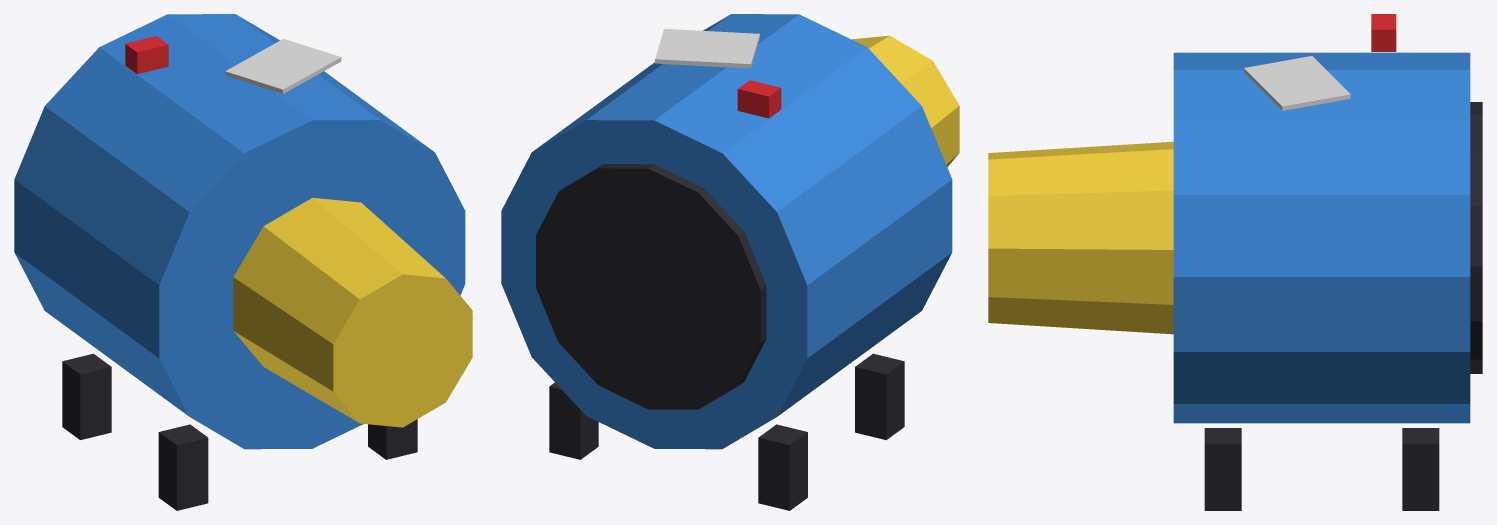
Rendered from party_blower.glb.
3 renders of one model, left to right at view 1: azimuth 30°, elevation 25°; view 2: azimuth 150°, elevation 25°; view 3: azimuth 270°, elevation 25°, orthographic. The views are drawn at different scales.
Parts seen in each view (by area): view 1: drum_blower_shell, hose_blower_hose, feet_blower_dark, patch_blower_patch, switch_blower_switch; view 2: drum_blower_shell, grille_blower_dark, feet_blower_dark, hose_blower_hose, patch_blower_patch, switch_blower_switch; view 3: drum_blower_shell, hose_blower_hose, feet_blower_dark, patch_blower_patch, grille_blower_dark, switch_blower_switch.
Part boxes in pixels (bbox=[...]): drum_blower_shell: bbox=[14, 14, 465, 449]; hose_blower_hose: bbox=[233, 197, 472, 427]; feet_blower_dark: bbox=[62, 353, 417, 510]; patch_blower_patch: bbox=[225, 38, 341, 93]; switch_blower_switch: bbox=[125, 36, 168, 74]; drum_blower_shell: bbox=[501, 14, 952, 449]; grille_blower_dark: bbox=[536, 164, 766, 409]; feet_blower_dark: bbox=[549, 353, 904, 510]; hose_blower_hose: bbox=[851, 35, 959, 166]; patch_blower_patch: bbox=[655, 28, 759, 68]; switch_blower_switch: bbox=[737, 80, 781, 118]; drum_blower_shell: bbox=[1173, 52, 1470, 423]; hose_blower_hose: bbox=[988, 141, 1173, 334]; feet_blower_dark: bbox=[1204, 428, 1439, 510]; patch_blower_patch: bbox=[1244, 56, 1350, 110]; grille_blower_dark: bbox=[1470, 102, 1482, 373]; switch_blower_switch: bbox=[1371, 14, 1396, 51].
Bounding box in the file's own units: 0.2925 × 0.355 × 0.4.
